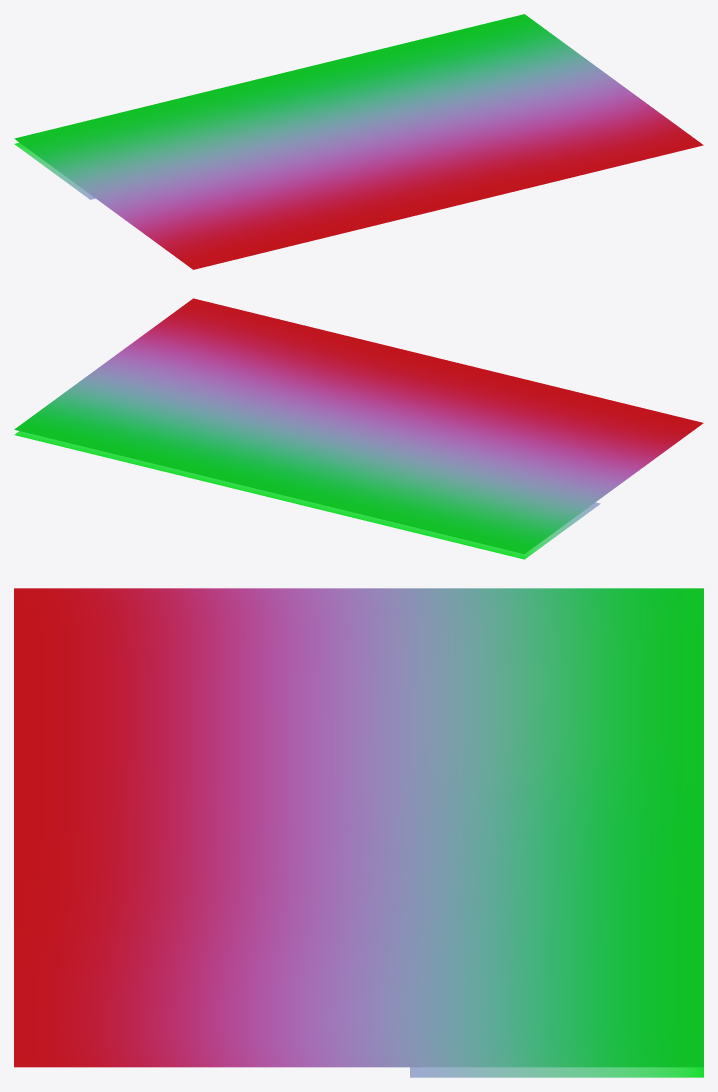
File: sea_shore_01.fbx
3 renders of one model, top to bottom at view 1: azimuth 30°, elevation 25°; view 2: azimuth 150°, elevation 25°; view 3: azimuth 270°, elevation 25°, orthographic. The views are drawn at different scales.
Parts seen in each view (by area): view 1: sea_shore_01, wet_sand; view 2: sea_shore_01, wet_sand; view 3: sea_shore_01, wet_sand.
Part boxes in pixels (x1,y1,x2,y2): sea_shore_01: (14,14,703,269); wet_sand: (14,142,95,199); sea_shore_01: (14,298,703,553); wet_sand: (14,431,600,559); sea_shore_01: (14,588,703,1067); wet_sand: (410,1067,703,1077).
Bounding box in the file's own units: 20 × 0.2 × 12.17.
